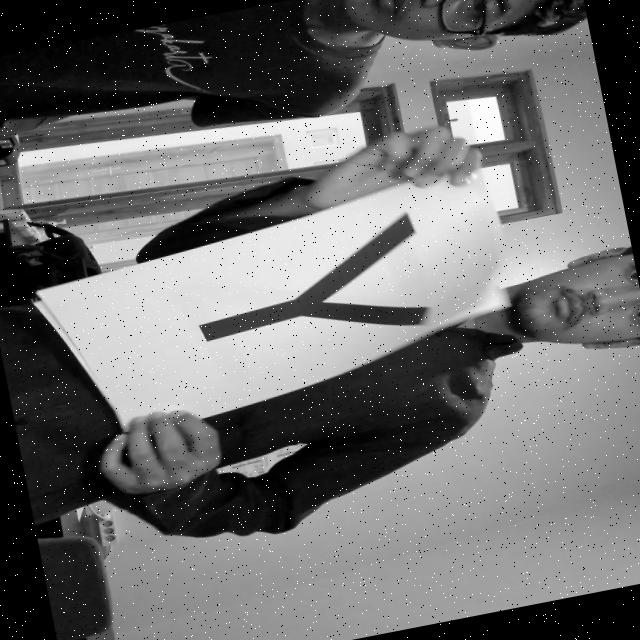y: (163, 202, 455, 382)
